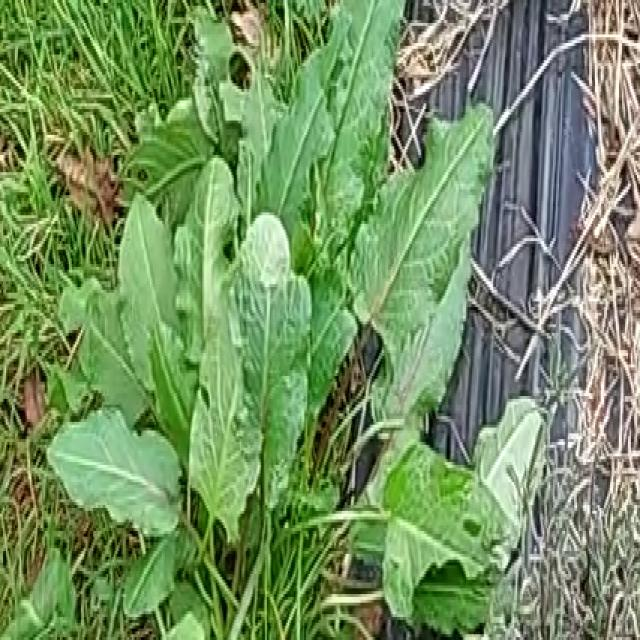organic waste: (63, 5, 512, 640)
